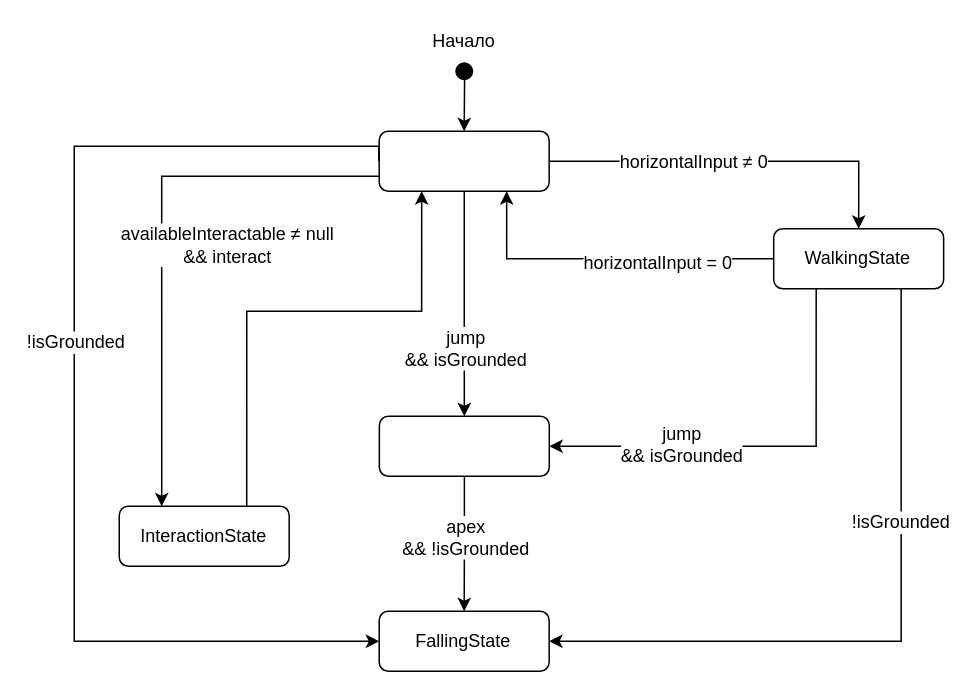
This 975x698 diagram has some shape labels left out. The shapes that lost their labels are listed below. From the top down, each one's centre as x and y in pixels, then its label:
[463,160]: IdleState
[463,445]: JumpingState
